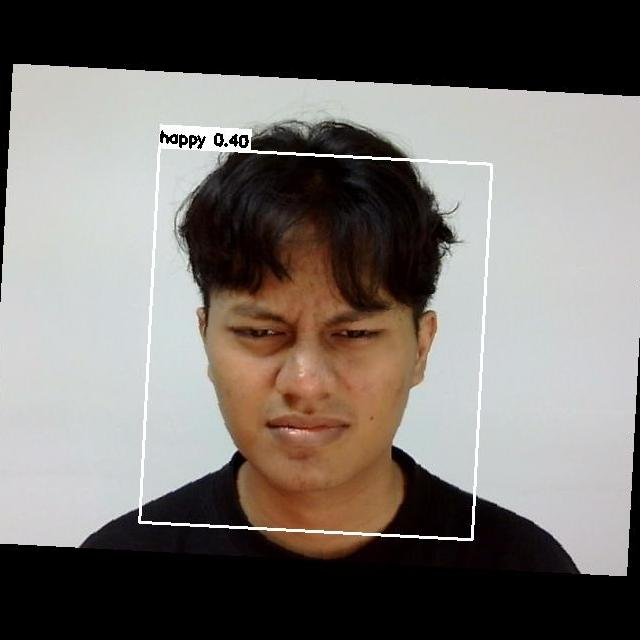Angry: (202, 264, 412, 463)
